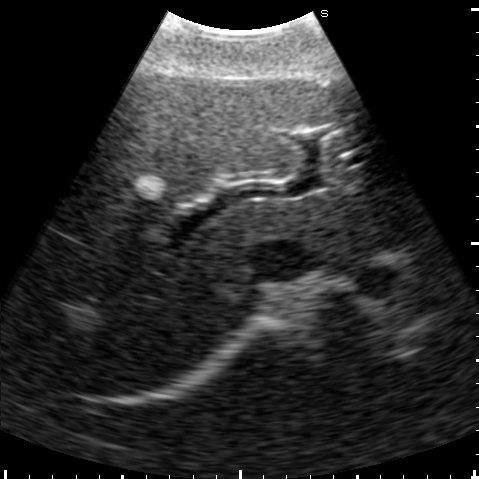IVC: (250, 239, 312, 282)
S3: (297, 73, 399, 190)
S4: (91, 75, 316, 200)
Tumor: (135, 174, 162, 198)
